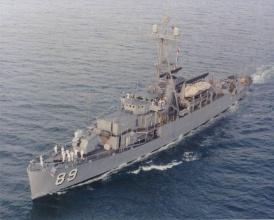warship: (28, 38, 252, 196)
